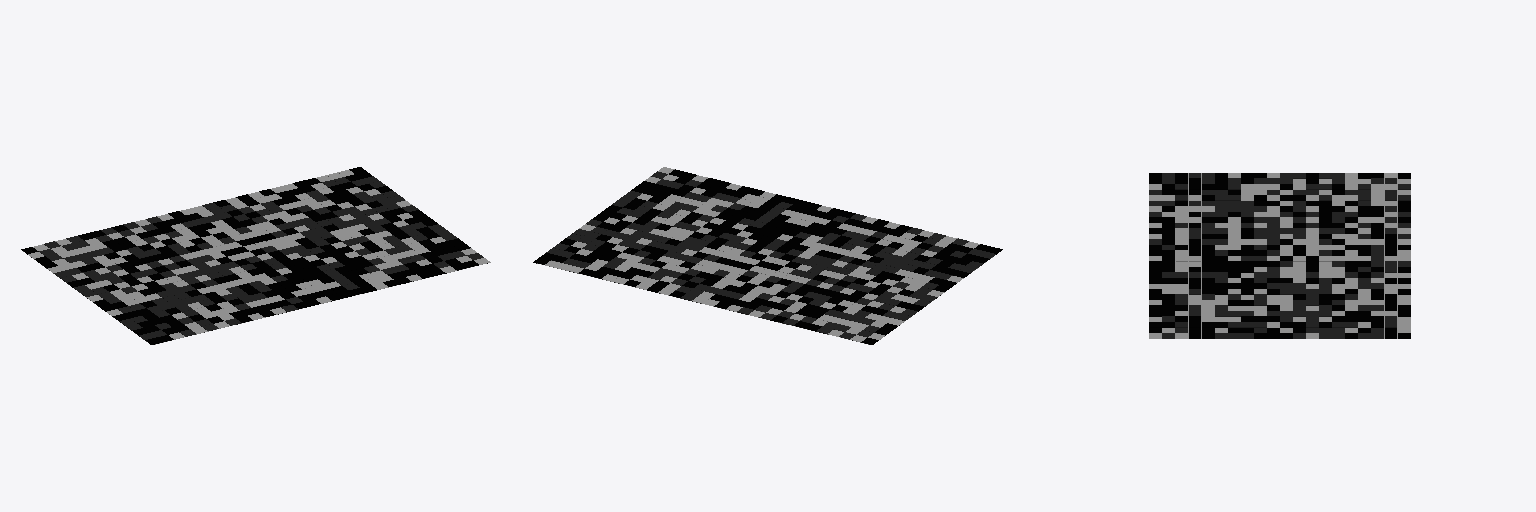
Rendered from chess.obj.
3 views of the same model, side by side, from view 1: azimuth 30°, elevation 25°; view 2: azimuth 150°, elevation 25°; view 3: azimuth 270°, elevation 25° (orthographic).
Parts seen in each view (by area): view 1: ShapeIndexedFaceSet.006_ShapeIndexedFaceSet.007, ShapeIndexedFaceSet.005_ShapeIndexedFaceSet.006, ShapeIndexedFaceSet.004_ShapeIndexedFaceSet.005; view 2: ShapeIndexedFaceSet.006_ShapeIndexedFaceSet.007, ShapeIndexedFaceSet.005_ShapeIndexedFaceSet.006, ShapeIndexedFaceSet.004_ShapeIndexedFaceSet.005; view 3: ShapeIndexedFaceSet.006_ShapeIndexedFaceSet.007, ShapeIndexedFaceSet.004_ShapeIndexedFaceSet.005, ShapeIndexedFaceSet.005_ShapeIndexedFaceSet.006.
Part boxes in pixels (left/top/right/bottom): ShapeIndexedFaceSet.006_ShapeIndexedFaceSet.007: left=21, top=167, right=487, bottom=344; ShapeIndexedFaceSet.005_ShapeIndexedFaceSet.006: left=31, top=176, right=483, bottom=340; ShapeIndexedFaceSet.004_ShapeIndexedFaceSet.005: left=23, top=170, right=490, bottom=344; ShapeIndexedFaceSet.006_ShapeIndexedFaceSet.007: left=533, top=169, right=1002, bottom=344; ShapeIndexedFaceSet.005_ShapeIndexedFaceSet.006: left=536, top=171, right=995, bottom=339; ShapeIndexedFaceSet.004_ShapeIndexedFaceSet.005: left=537, top=167, right=992, bottom=344; ShapeIndexedFaceSet.006_ShapeIndexedFaceSet.007: left=1149, top=173, right=1410, bottom=338; ShapeIndexedFaceSet.004_ShapeIndexedFaceSet.005: left=1149, top=173, right=1410, bottom=338; ShapeIndexedFaceSet.005_ShapeIndexedFaceSet.006: left=1149, top=173, right=1410, bottom=338.
Bounding box in the file's own units: 3 × 0.004 × 2.